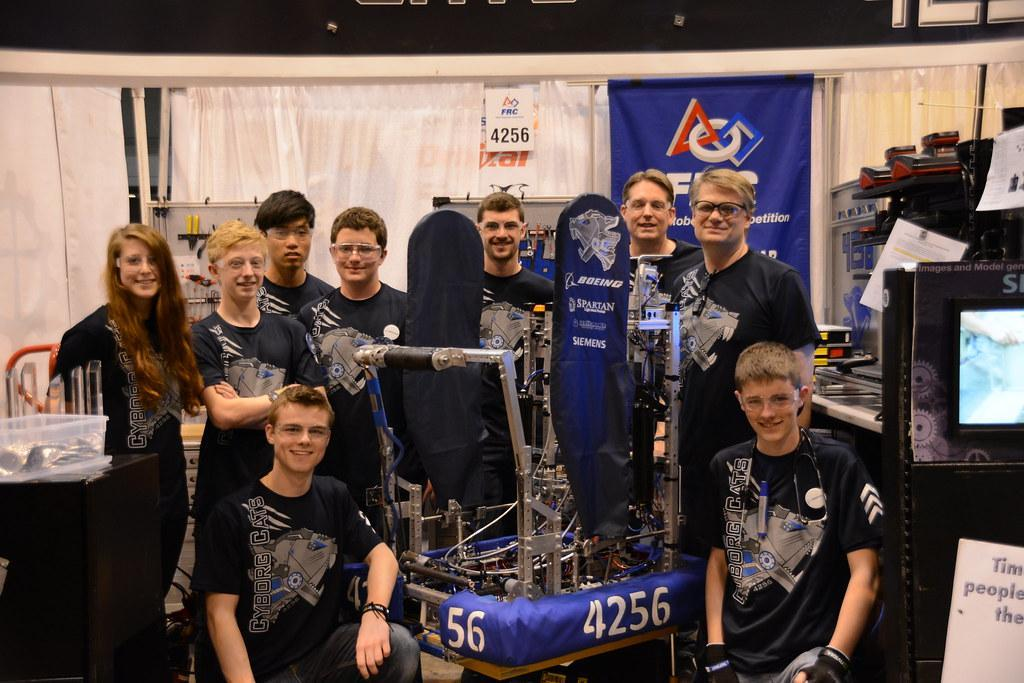robot: (353, 186, 713, 669)
